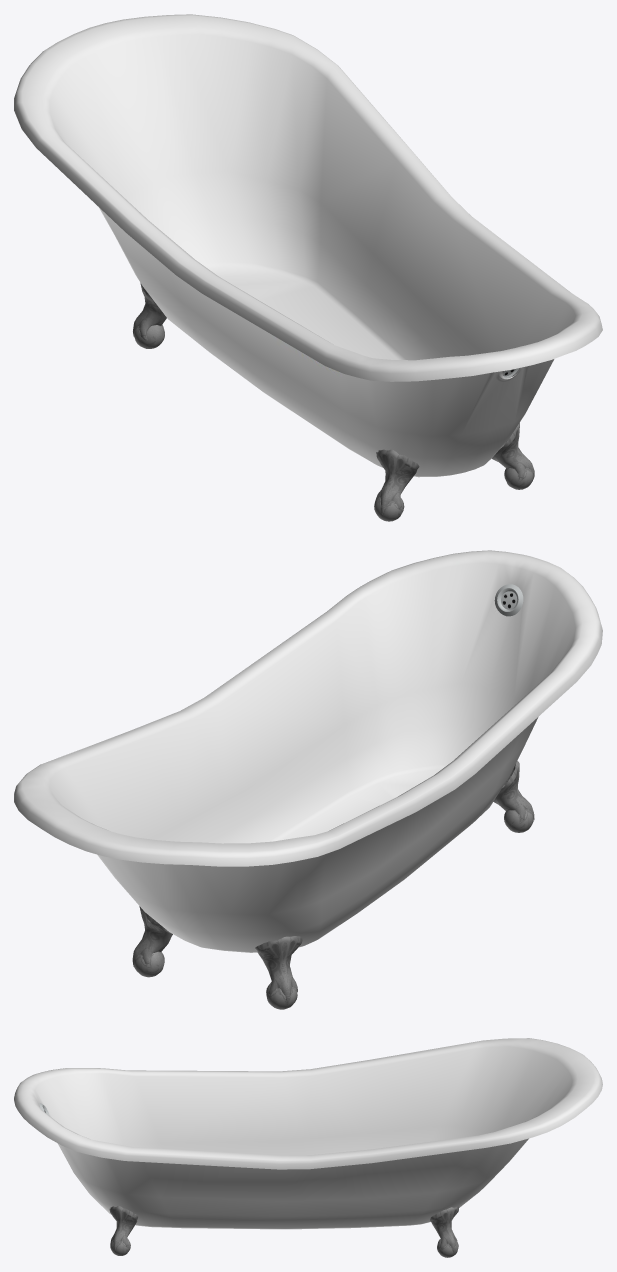
Rendered from bath.glb.
3 views of the same model, one above another, from view 1: azimuth 30°, elevation 25°; view 2: azimuth 150°, elevation 25°; view 3: azimuth 270°, elevation 25° (orthographic). The views are drawn at different scales.
Parts seen in each view (by area): view 1: bath_finel_T_bath_0, leg_1, Leg; view 2: bath_finel_T_bath_0, Leg, leg_1; view 3: bath_finel_T_bath_0, Leg, leg_1.
Part boxes in pixels (<box>): bath_finel_T_bath_0: <box>14,14,602,477</box>; leg_1: <box>374,423,534,521</box>; Leg: <box>133,283,166,348</box>; bath_finel_T_bath_0: <box>14,550,602,952</box>; Leg: <box>132,906,302,1009</box>; leg_1: <box>493,761,534,832</box>; bath_finel_T_bath_0: <box>14,1038,602,1229</box>; Leg: <box>430,1206,458,1257</box>; leg_1: <box>109,1206,137,1255</box>.
Bounding box in the file's own units: 7.09 × 5.11 × 17.38.
1 material, 1 textured.
